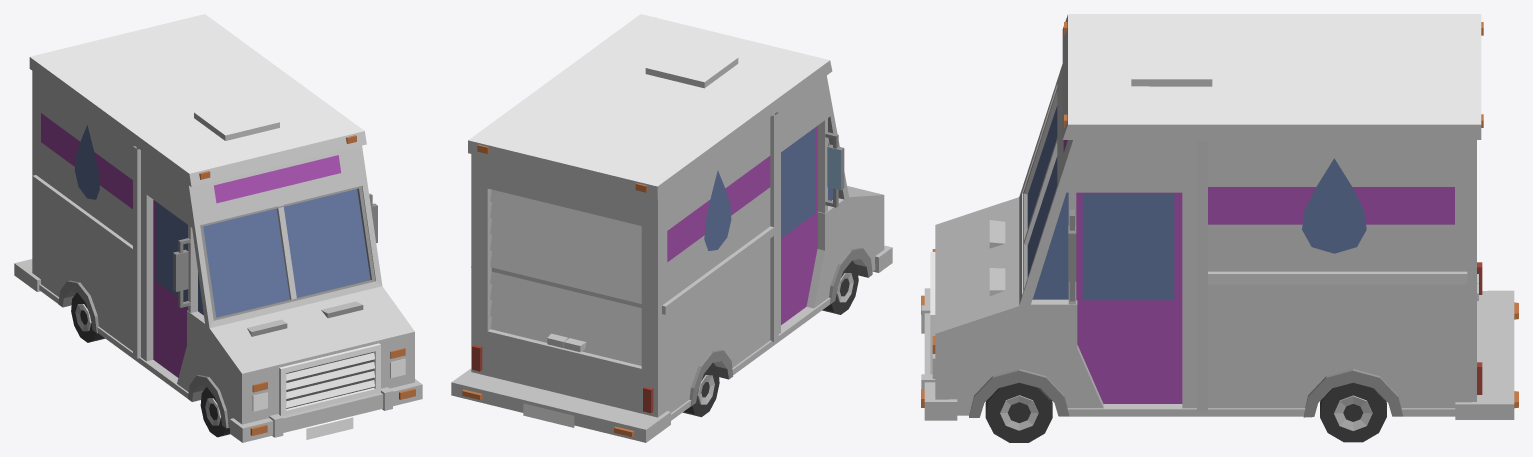
The model's file is transport_bus_003.glb.
3 views of the same model, side by side, from view 1: azimuth 30°, elevation 25°; view 2: azimuth 150°, elevation 25°; view 3: azimuth 270°, elevation 25° (orthographic). The views are drawn at different scales.
Parts seen in each view (by area): view 1: transport_bus_003; view 2: transport_bus_003; view 3: transport_bus_003.
Boxes of the visible parts, <box> form: transport_bus_003: <box>14,14,422,442</box>; transport_bus_003: <box>451,14,892,442</box>; transport_bus_003: <box>921,14,1518,442</box>.
Bounding box in the file's own units: 2.02 × 2.43 × 4.01.
Materials: 1 (1 with a texture image).
